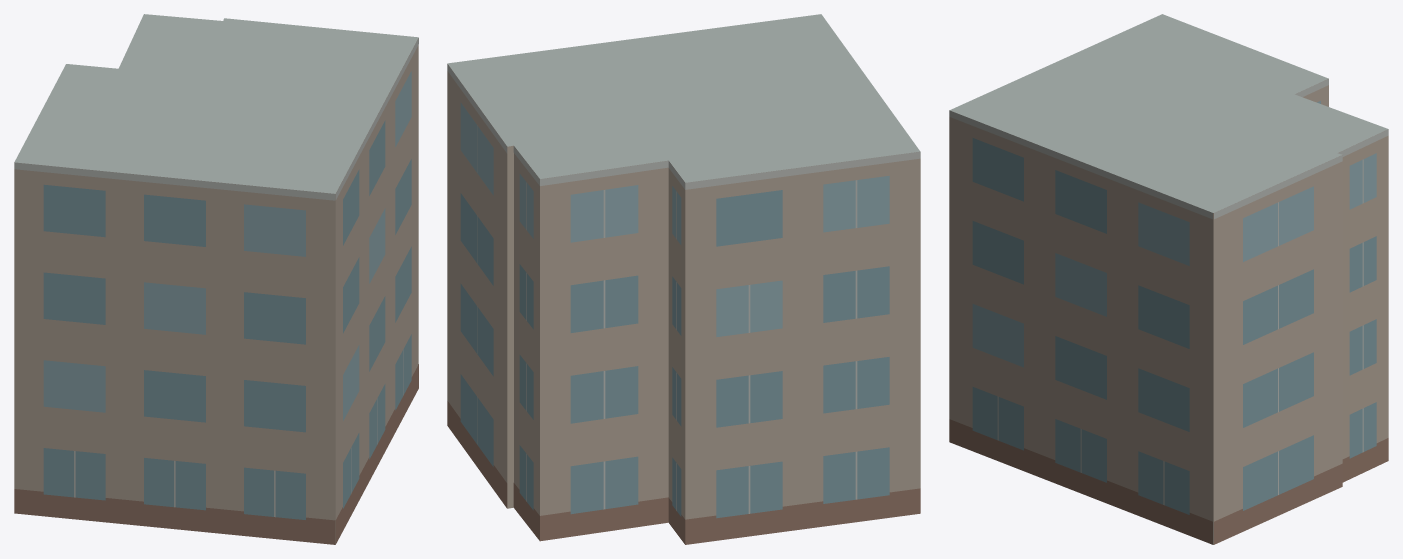
Rendered from survey-upis-32961838.glb.
3 renders of one model, left to right at view 1: azimuth 30°, elevation 25°; view 2: azimuth 150°, elevation 25°; view 3: azimuth 270°, elevation 25°, orthographic. The views are drawn at different scales.
Parts seen in each view (by area): view 1: survey-upis-32961838.tmp; view 2: survey-upis-32961838.tmp; view 3: survey-upis-32961838.tmp.
Boxes of the visible parts, bbox=[...] form: survey-upis-32961838.tmp: bbox=[14, 14, 418, 544]; survey-upis-32961838.tmp: bbox=[447, 14, 920, 544]; survey-upis-32961838.tmp: bbox=[949, 14, 1388, 544].
Bounding box in the file's own units: 16.08 × 12.5 × 15.
